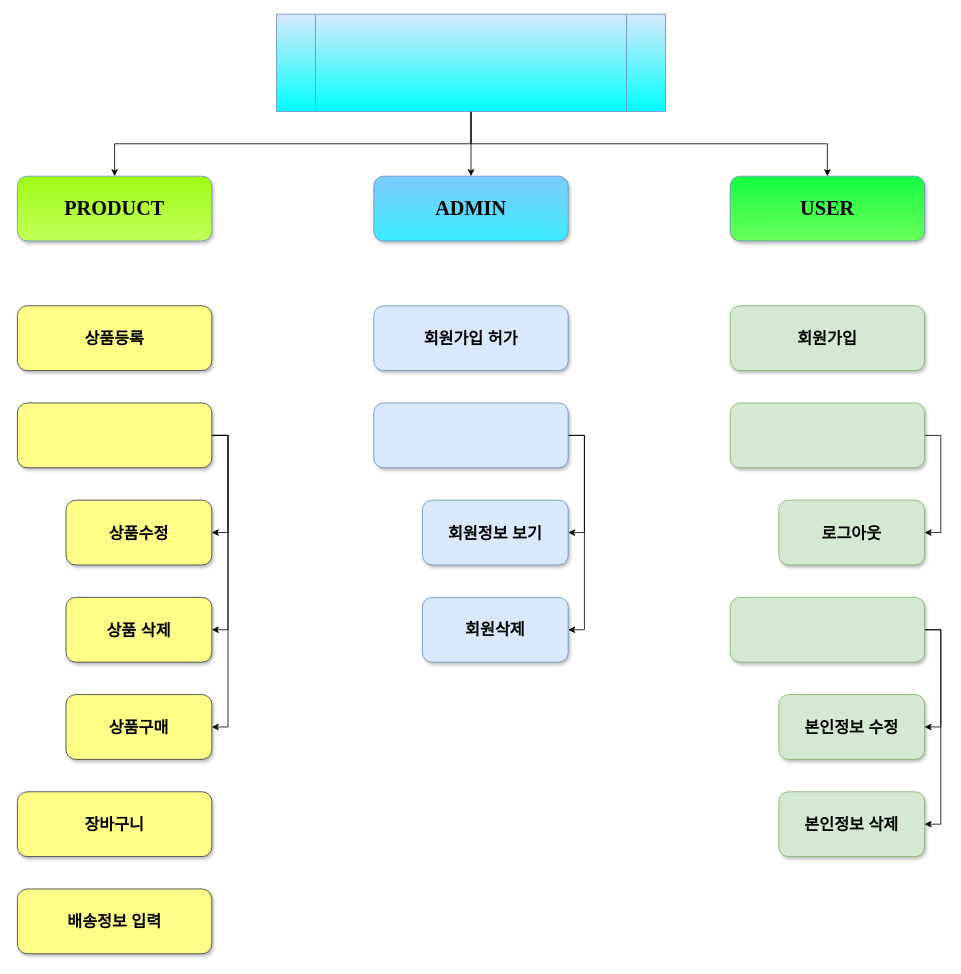
This 961x974 diagram has some shape labels left out. Each missing label, with the centre of its shape:
DaDaMall: the point at 470,62
로그인: the point at 827,436
본인정보 보기: the point at 827,630
상품 상세보기: the point at 115,436
회원관리: the point at 471,436
